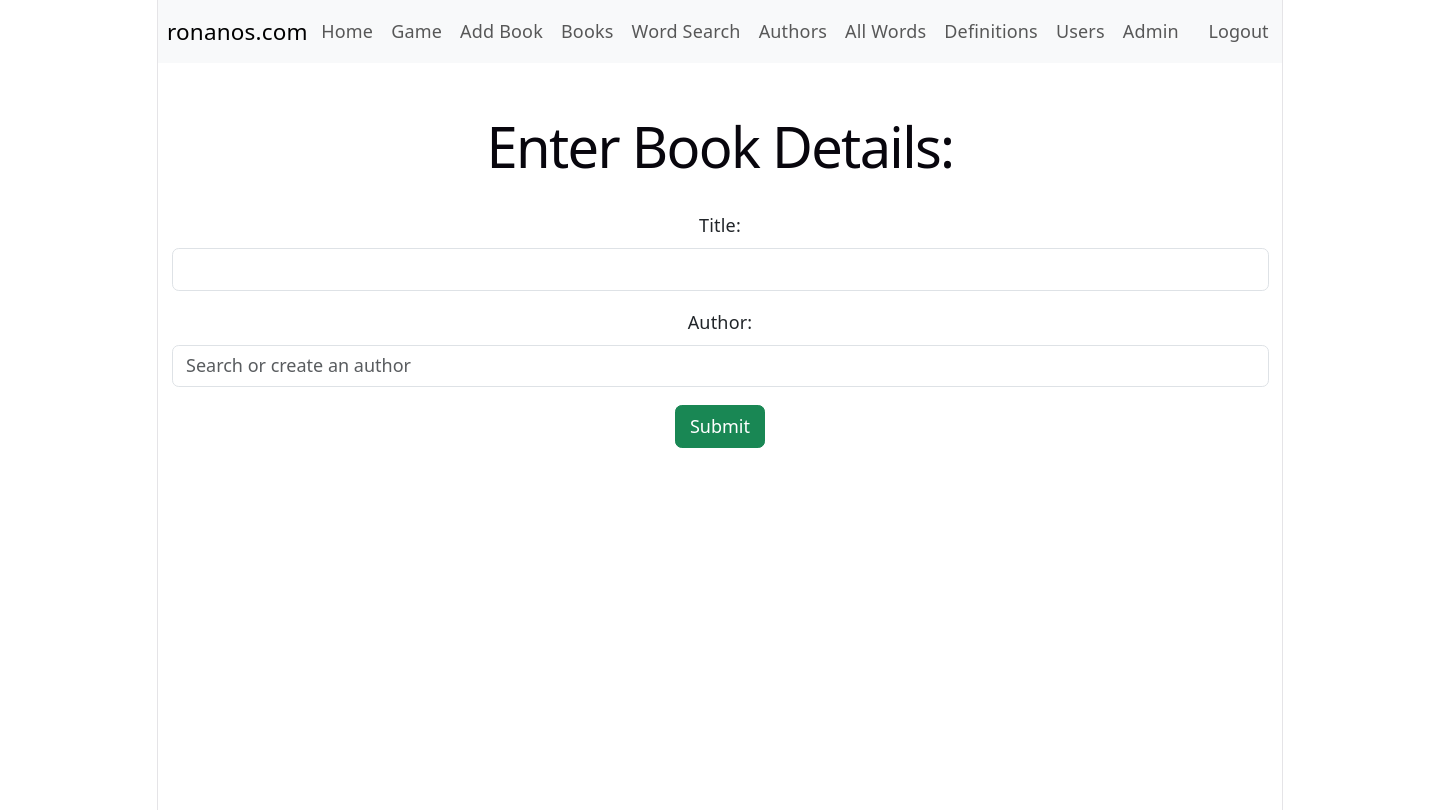
Test: AddBook › shows live search suggestions as title is typed
Type "Fr" into the field labelled "Title:" at (720, 269), box [172,248,1268,291]
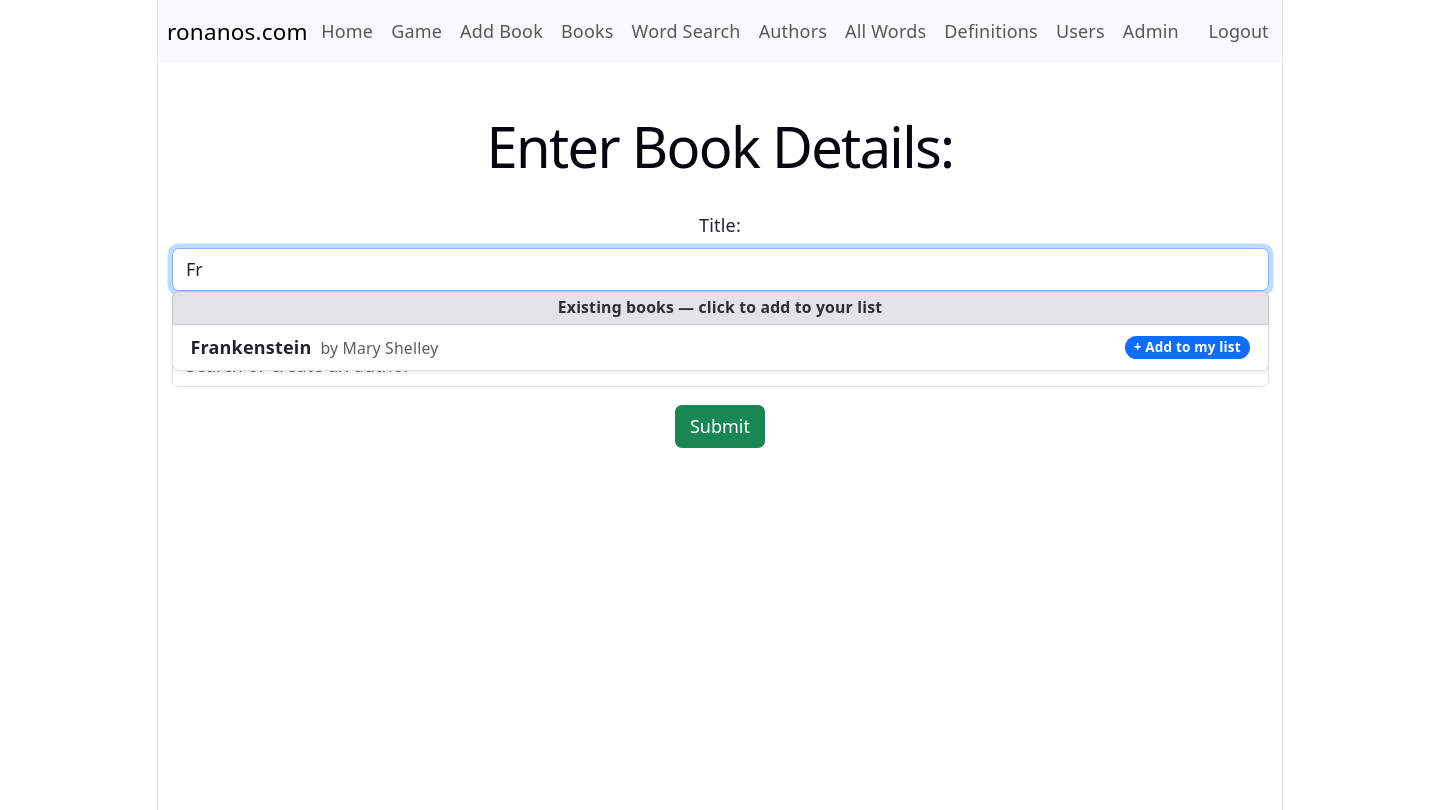
Check: the text "Frankenstein" is shown, box [190,335,311,359]
Check: the text "+ Add to my list" is shown, box [1125,336,1250,359]
Check: the text "by Mary Shelley" is shown, box [320,337,438,359]
